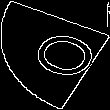O_SE: (11, 25, 99, 85)
